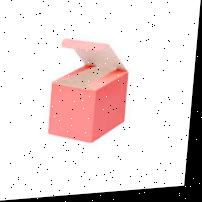cube: (49, 64, 132, 147)
